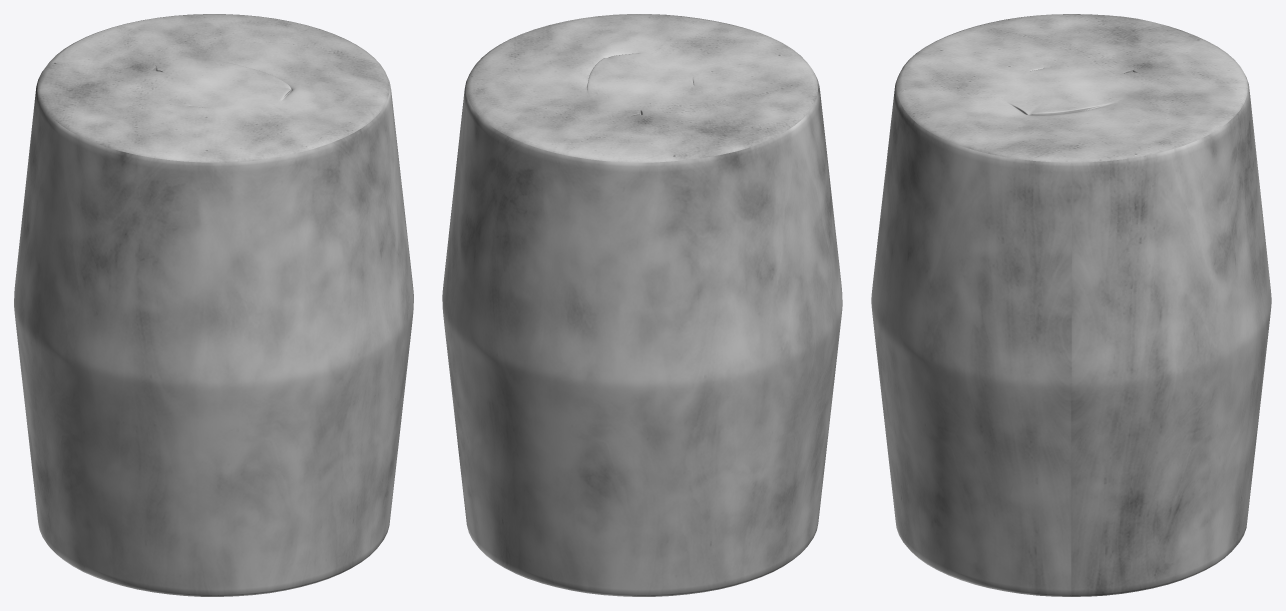
The model's file is end_table2_small.fbx.
3 views of the same model, side by side, from view 1: azimuth 30°, elevation 25°; view 2: azimuth 150°, elevation 25°; view 3: azimuth 270°, elevation 25° (orthographic).
Parts seen in each view (by area): view 1: HuCt29:HuCt29; view 2: HuCt29:HuCt29; view 3: HuCt29:HuCt29.
Part boxes in pixels (x1,y1,x2,y2): HuCt29:HuCt29: (14,14,413,596); HuCt29:HuCt29: (442,14,842,596); HuCt29:HuCt29: (871,14,1271,596).
Bounding box in the file's own units: 456 × 555 × 456.
1 material, 1 textured.
